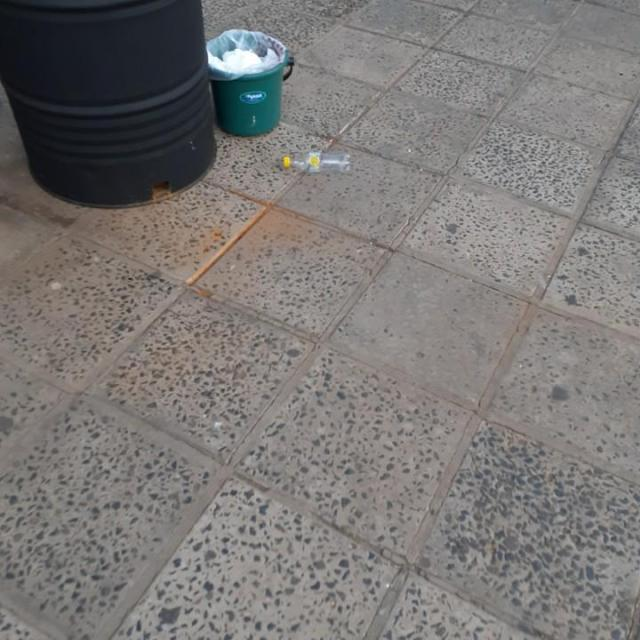litter: (281, 150, 353, 175)
